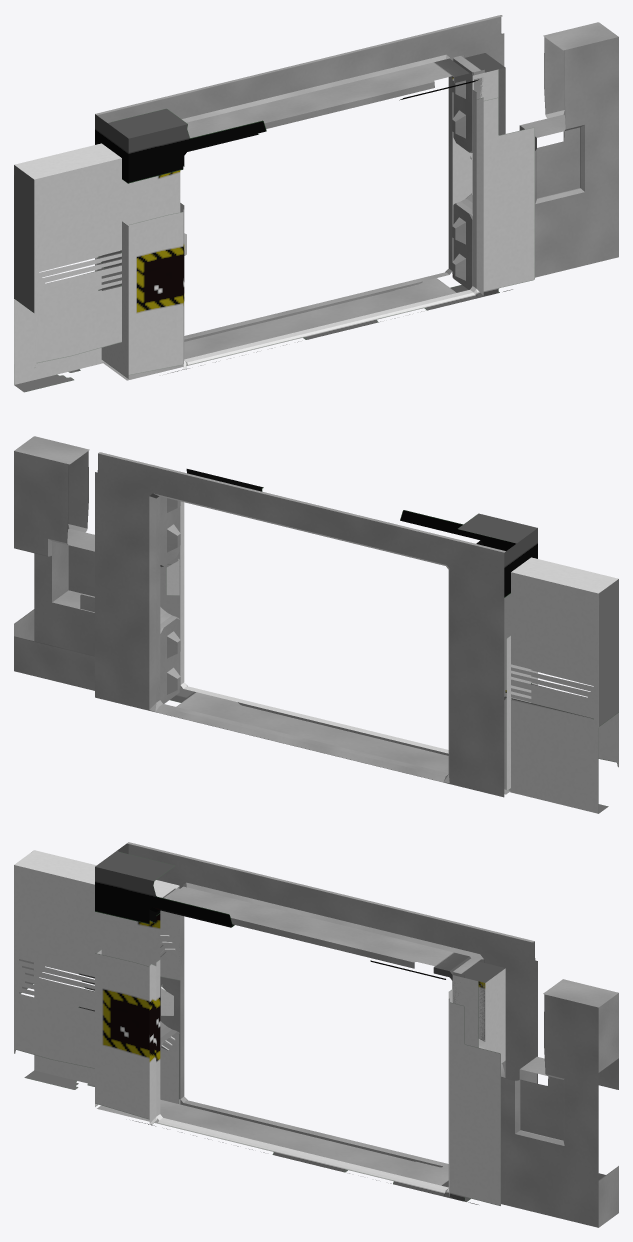
Rendered from sliding_blast_door.obj.
3 renders of one model, top to bottom at view 1: azimuth 30°, elevation 25°; view 2: azimuth 150°, elevation 25°; view 3: azimuth 330°, elevation 25°, orthographic.
Visible parts, largest first — view 1: DoorFrame, DoorRight, DoorLeft, Window; view 2: DoorFrame, DoorRight, DoorLeft, Window; view 3: DoorFrame, DoorRight, DoorLeft, Window.
Boxes of the visible parts, left/top/right/bottom form: DoorFrame: left=95, top=15, right=534, bottom=380; DoorRight: left=14, top=143, right=147, bottom=392; DoorLeft: left=452, top=22, right=618, bottom=289; Window: left=537, top=127, right=580, bottom=198; DoorFrame: left=95, top=452, right=537, bottom=797; DoorRight: left=504, top=557, right=618, bottom=813; DoorLeft: left=14, top=436, right=180, bottom=703; Window: left=68, top=545, right=94, bottom=612; DoorFrame: left=95, top=842, right=537, bottom=1205; DoorRight: left=14, top=850, right=179, bottom=1103; DoorLeft: left=452, top=957, right=618, bottom=1227; Window: left=520, top=1076, right=563, bottom=1140.
Bounding box in the file's own units: 10 × 4 × 1.
